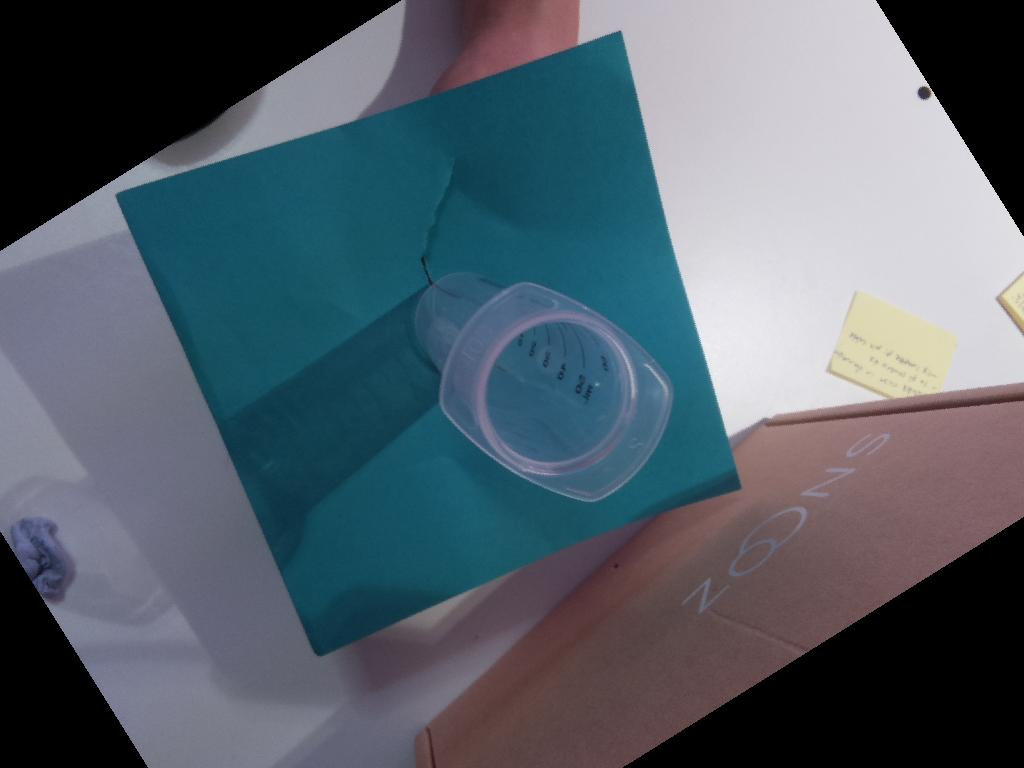clean: (436, 279, 675, 501)
